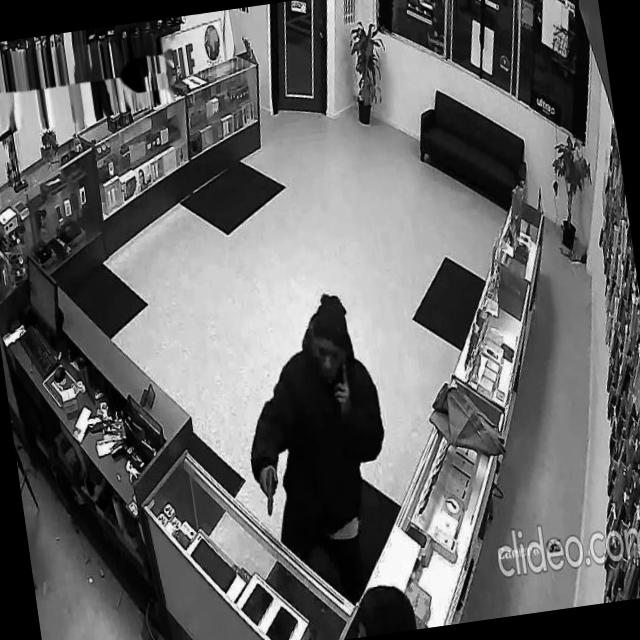gun: (260, 464, 280, 519)
person with a gun: (228, 284, 410, 610)
